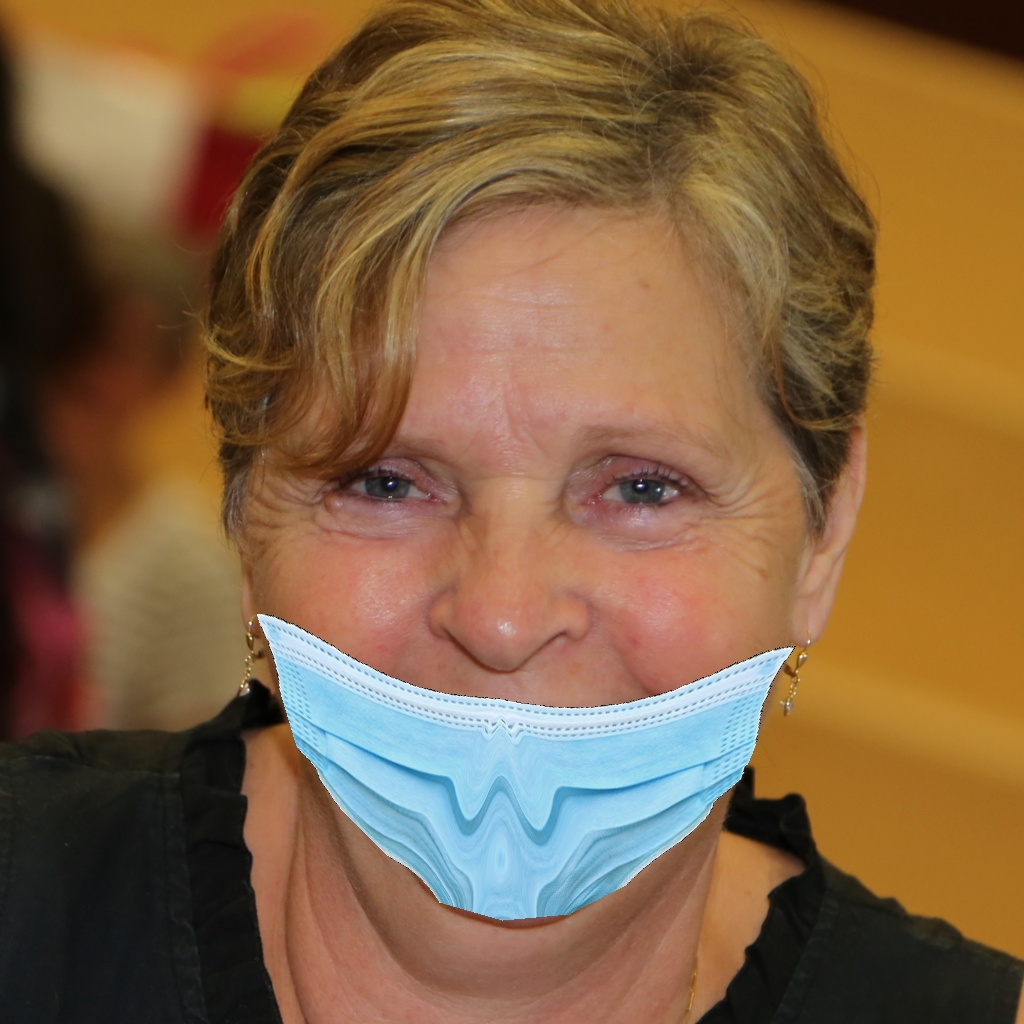mascarilla_mal_puesta: (187, 268, 902, 965)
